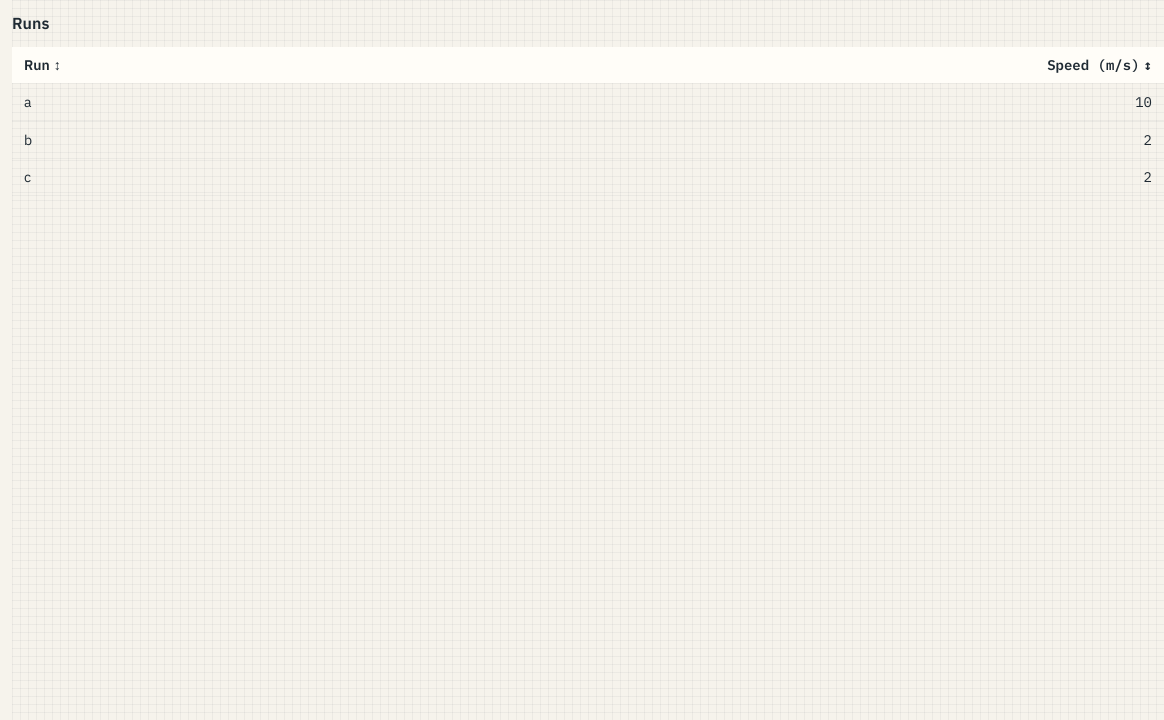
Test: StatTable › sorts numerically, toggles aria-sort, and leaves input order intact
What coordinates should you click on to do the following:
click the button "Speed (m/s) ↕"
I would click on:
 (1100, 65)
Its box is [1047, 55, 1152, 76].
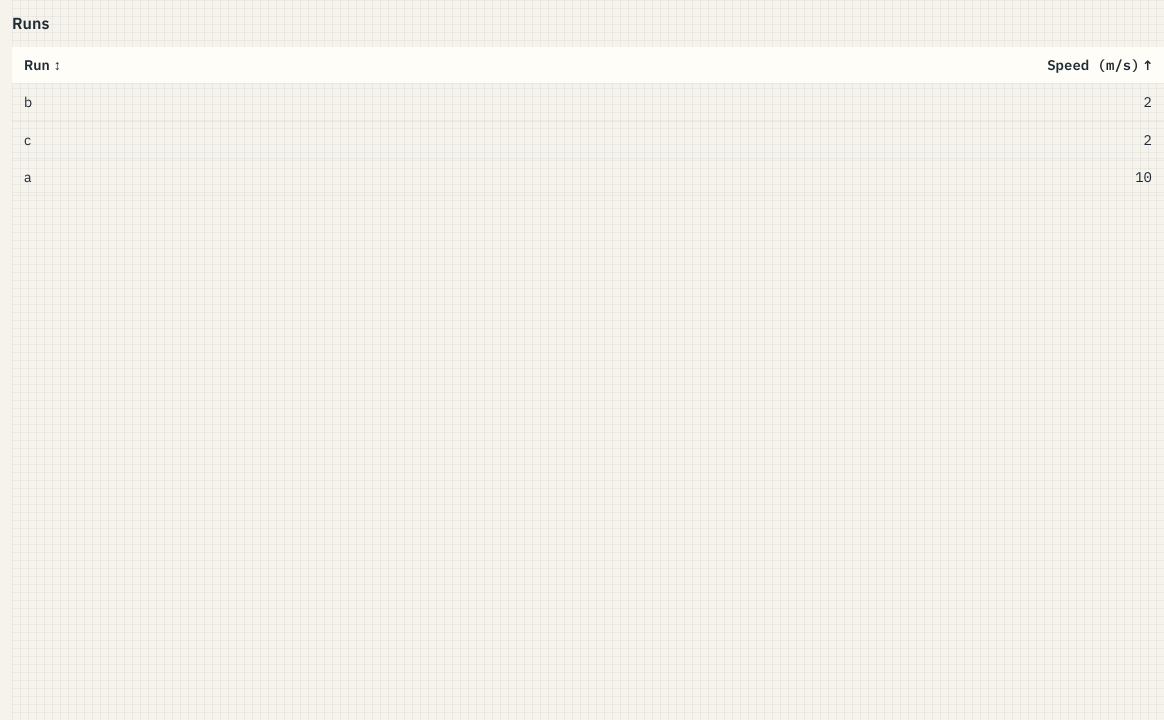
Expected: the row "b 2" is shown, [12, 84, 1163, 121]
Expected: the column heading "Speed (m/s) ↑" has attribute aria-sort="ascending", [381, 47, 1163, 84]
What coordinates should you click on to do the following:
click the button "Speed (m/s) ↑"
I would click on:
 (1100, 65)
Its box is [1047, 55, 1152, 76].
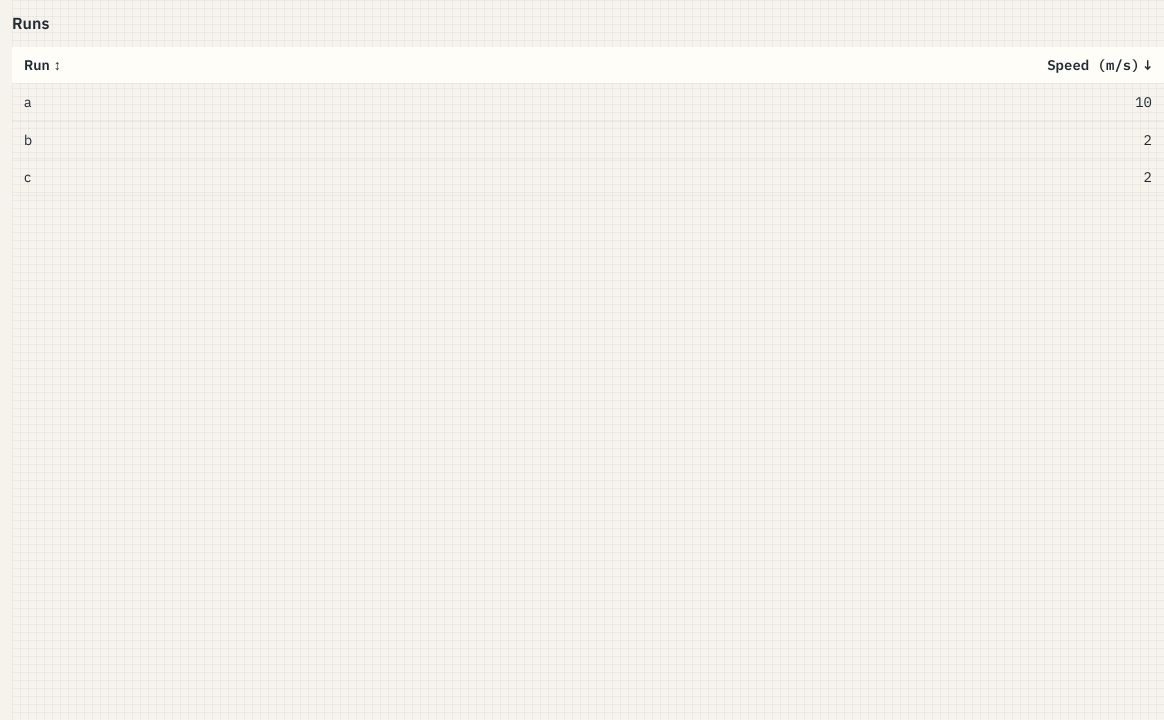
Expected: the column heading "Speed (m/s) ↓" has attribute aria-sort="descending", [381, 47, 1163, 84]
